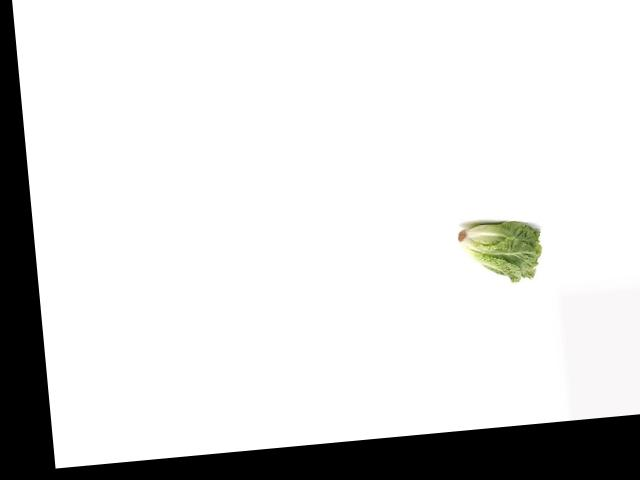lettuce: (452, 216, 544, 288)
